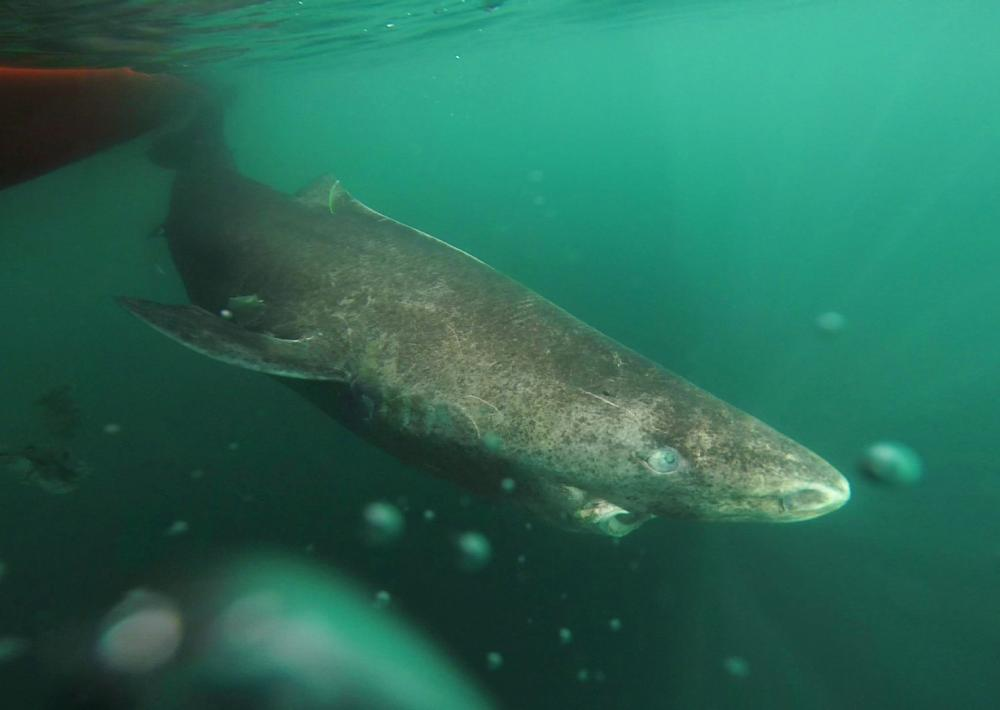shark: (133, 80, 866, 562)
